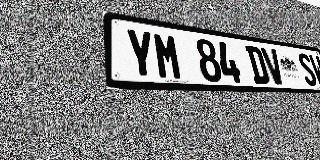4: (215, 41, 243, 83)
8: (194, 38, 223, 82)
D: (245, 45, 271, 84)
M: (152, 32, 184, 80)
S: (296, 53, 319, 86)
V: (261, 47, 286, 85)
W: (308, 54, 320, 86)
Y: (124, 28, 157, 79)
